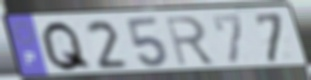2: (84, 19, 131, 71)
5: (124, 16, 171, 70)
7: (210, 13, 246, 66), (254, 11, 285, 63)
Q: (39, 20, 95, 73)
R: (163, 15, 218, 68)
